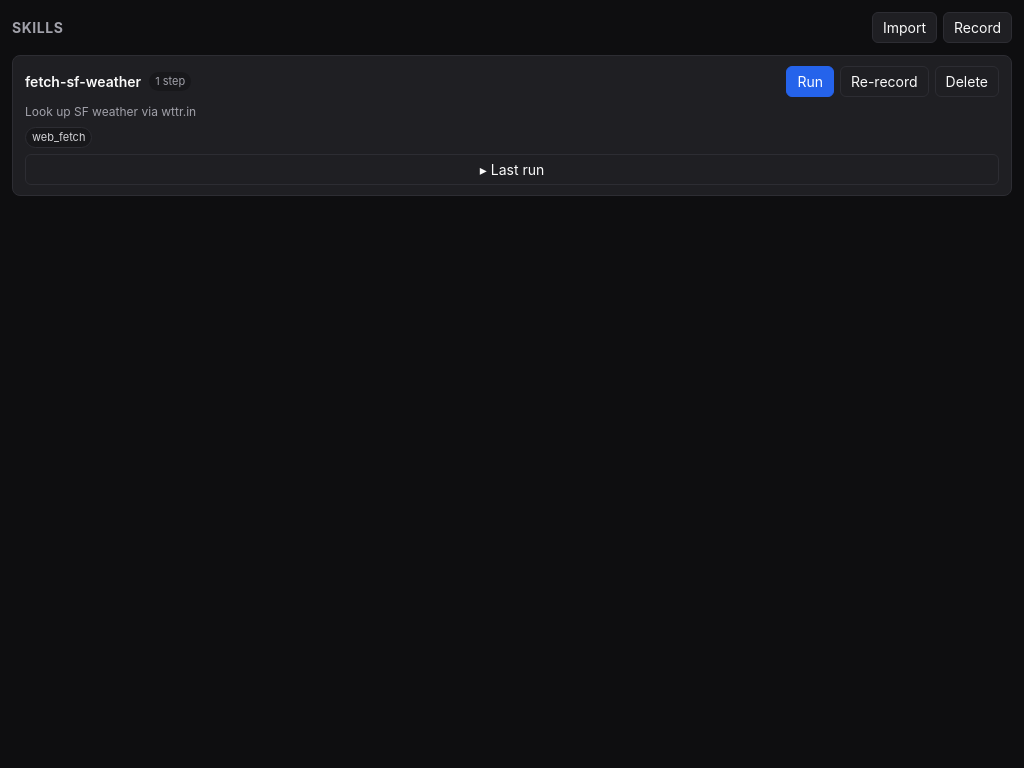
Test: SkillsPanel › expands the Last run view and renders the per-step trace
Expected: the text "fetch-sf-weather" is shown, x1=25 y1=71 x2=141 y2=92
Click the button with test id "skill-last-run-toggle".
click(512, 169)  # box x1=25 y1=154 x2=999 y2=184
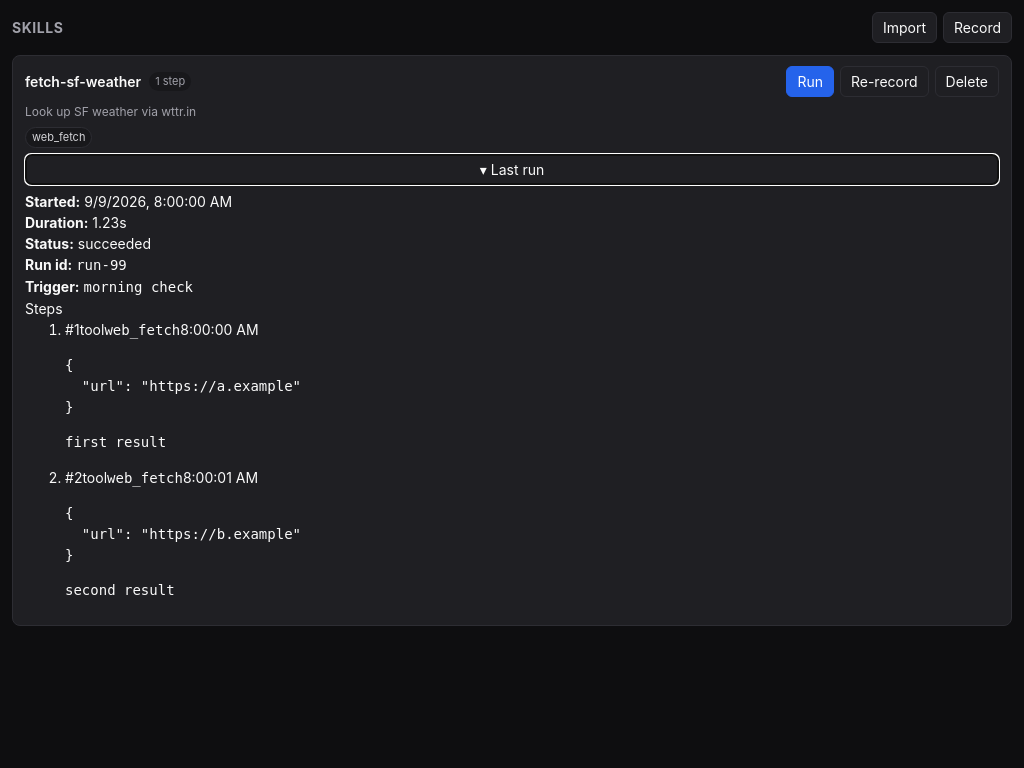
Expected: the element with test id "skill-last-run-view" is shown, x1=25 y1=192 x2=301 y2=598
Expected: the button with test id "skill-last-run-toggle" is expanded
Expected: the number of list items with test id "skill-last-run-step" is 2, x1=65 y1=320 x2=301 y2=450; x1=65 y1=468 x2=301 y2=598
Click the button with test id "skill-last-run-toggle".
click(512, 169)  # box x1=25 y1=154 x2=999 y2=184
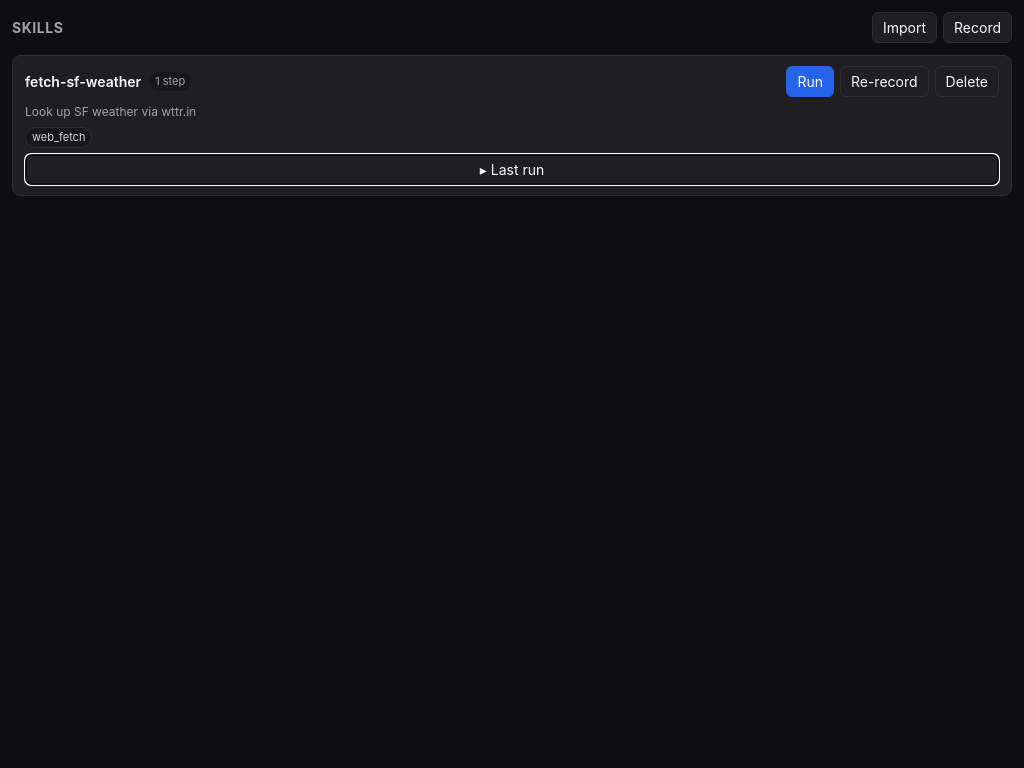
Expected: the element with test id "skill-last-run-view" is gone
Expected: the button with test id "skill-last-run-toggle" is collapsed, x1=25 y1=154 x2=999 y2=184
